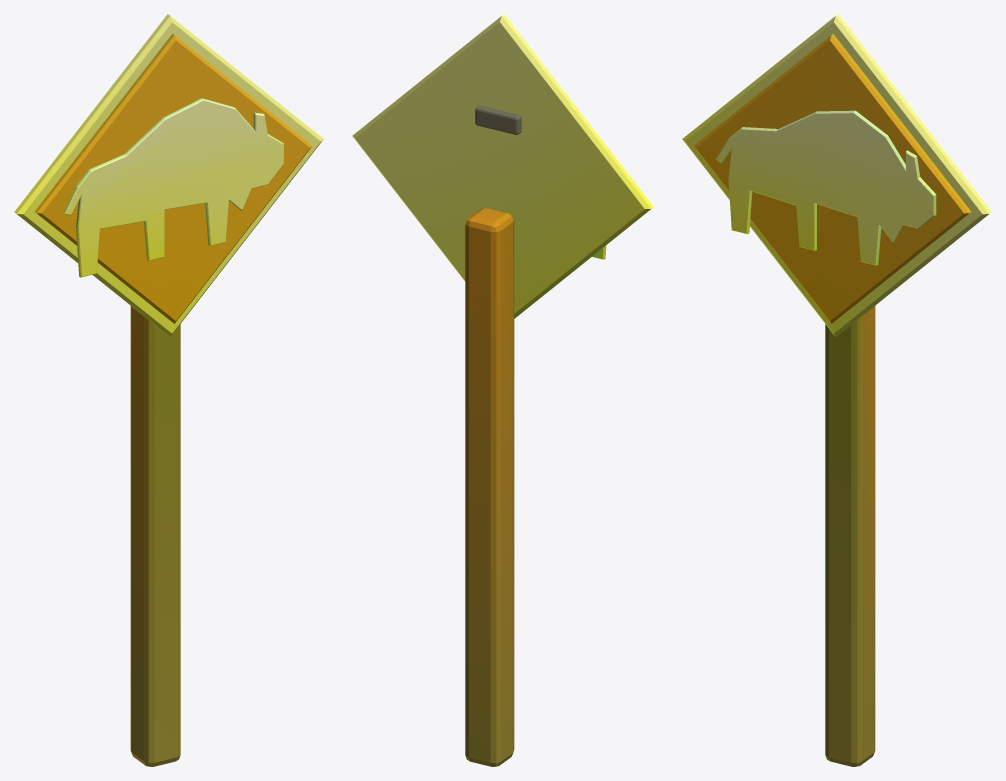
File: Sign_BisonCrossing_01.fbx
3 views of the same model, side by side, from view 1: azimuth 30°, elevation 25°; view 2: azimuth 150°, elevation 25°; view 3: azimuth 330°, elevation 25° (orthographic). The views are drawn at different scales.
Parts seen in each view (by area): view 1: Sign_BisonCrossing_01; view 2: Sign_BisonCrossing_01; view 3: Sign_BisonCrossing_01.
Part boxes in pixels (x1,y1,x2,y2): Sign_BisonCrossing_01: (14,14,323,766); Sign_BisonCrossing_01: (352,14,653,766); Sign_BisonCrossing_01: (682,14,991,766).
Size of the model in its own units: 1.38 by 3.24 by 0.255.
